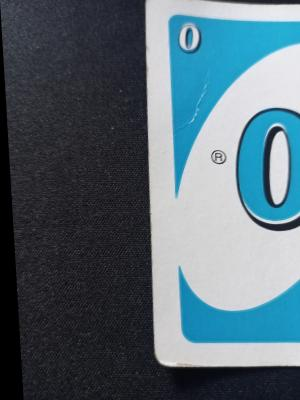num_0: (225, 99, 300, 239), (171, 15, 208, 59)
